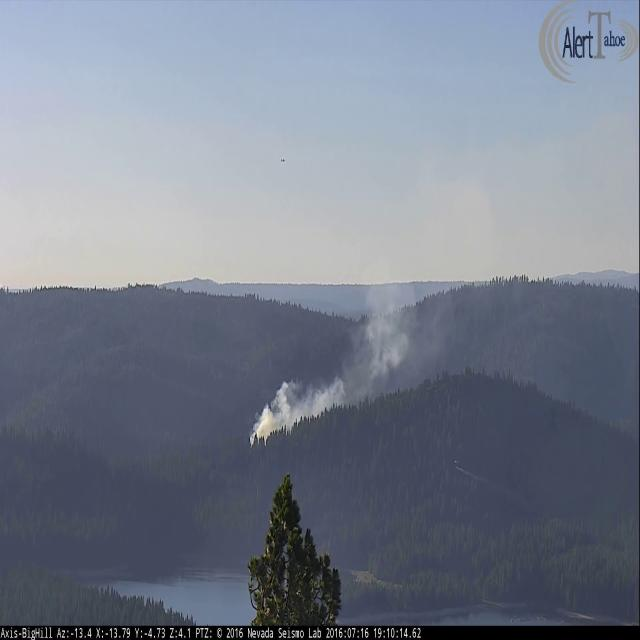smoke: (248, 126, 556, 446)
